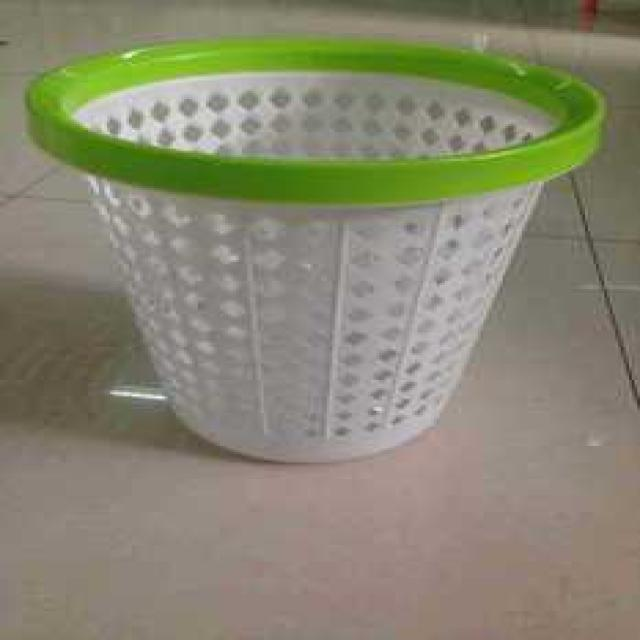dustbin: (19, 31, 612, 470)
